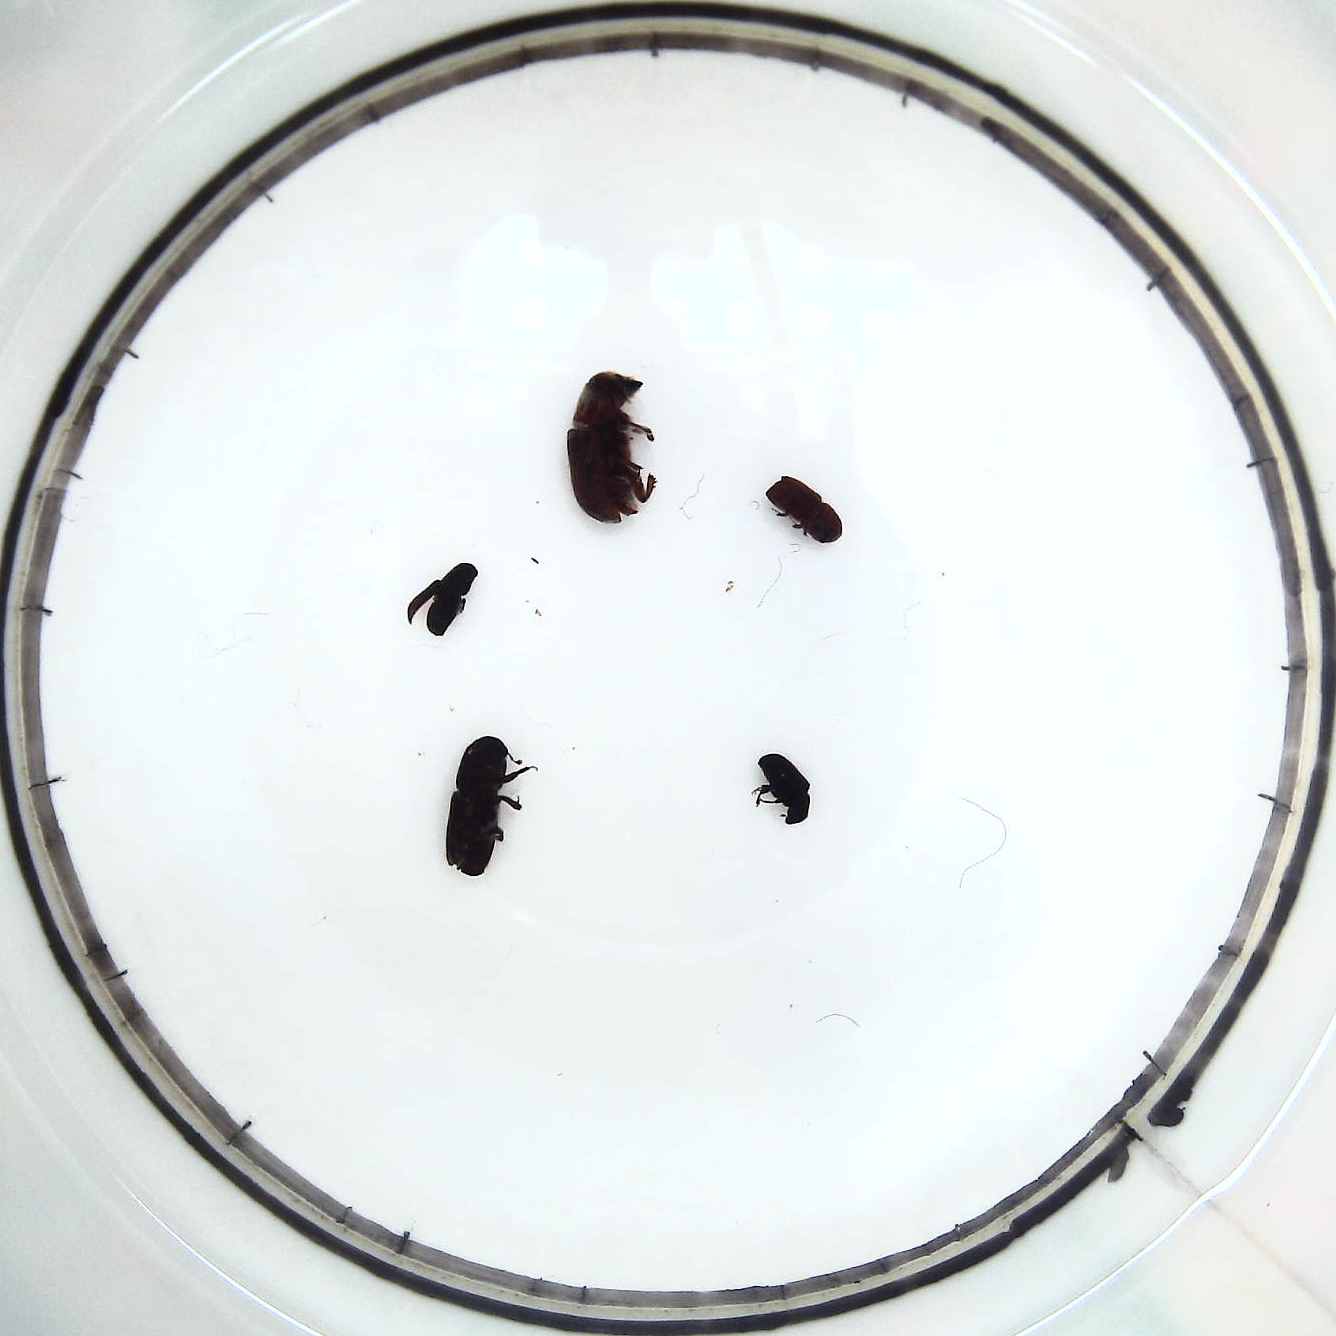Boerner: (438, 730, 536, 887)
Leconte: (560, 365, 663, 529)
armandi: (399, 558, 480, 644)
coleoptera: (748, 748, 818, 834)
linnaeus: (765, 473, 843, 551)
